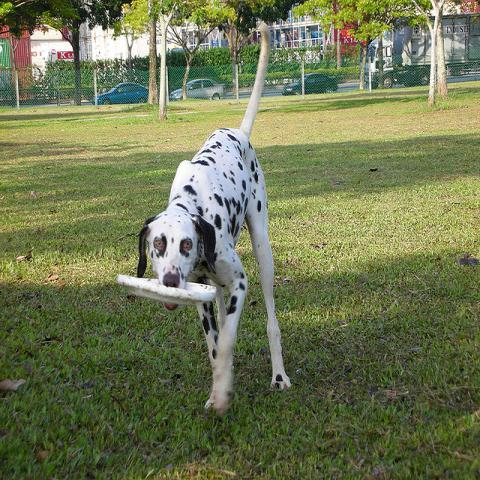car: (90, 82, 150, 106), (169, 78, 227, 101), (283, 73, 340, 96)
truck: (359, 11, 479, 92)
